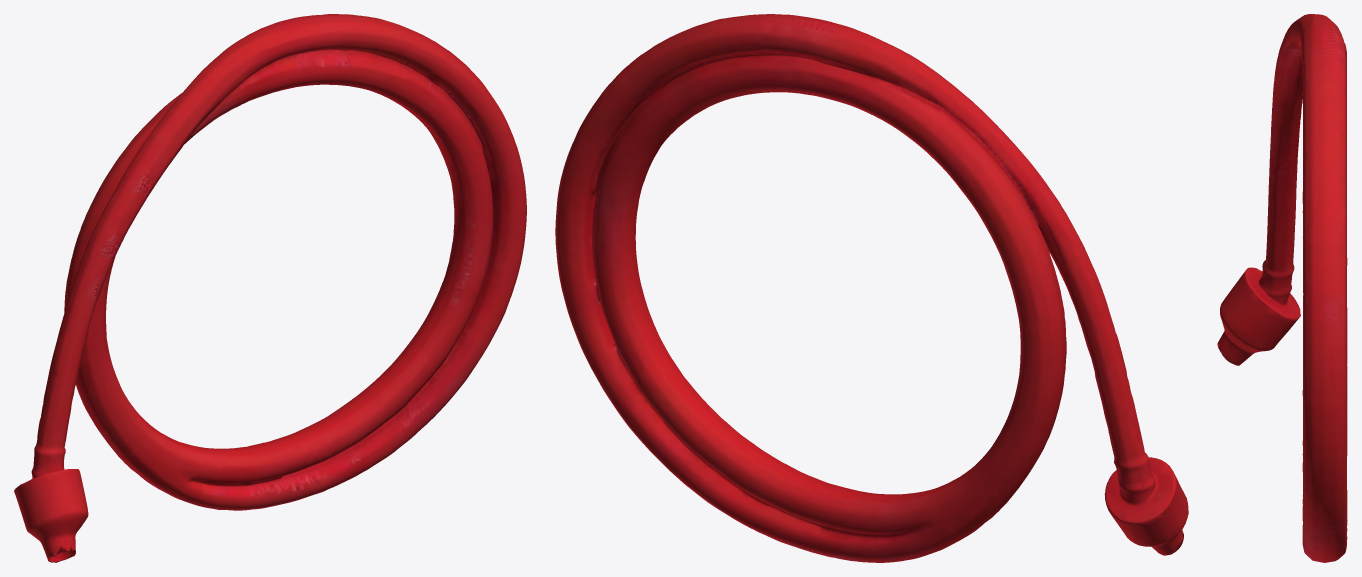
The model's file is vet_equip_feeding_tube.glb.
3 views of the same model, side by side, from view 1: azimuth 30°, elevation 25°; view 2: azimuth 150°, elevation 25°; view 3: azimuth 270°, elevation 25° (orthographic). The views are drawn at different scales.
Visible parts, largest first — view 1: model; view 2: model; view 3: model.
Boxes of the visible parts, x1=… form: model: x1=14, y1=14, x2=526, y2=562; model: x1=555, y1=14, x2=1188, y2=562; model: x1=1217, y1=14, x2=1347, y2=562.
Size of the model in its own units: 1.9 by 1.63 by 0.3827.
1 material, 1 textured.
